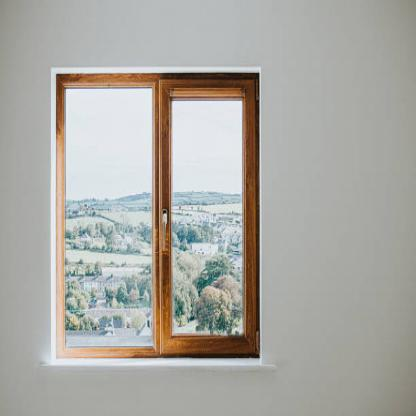Window: (49, 69, 260, 359)
